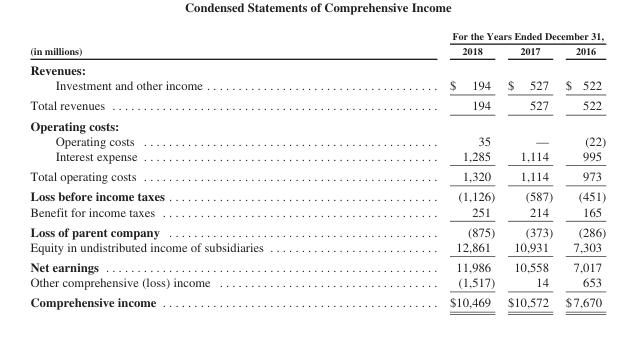table: (29, 29, 605, 309)
table column: (29, 29, 356, 309), (356, 29, 500, 309), (500, 29, 558, 309), (558, 29, 605, 309)
table column header: (29, 29, 605, 59)
table projected row header: (29, 59, 605, 77), (29, 115, 605, 132)
table row: (29, 95, 605, 115), (29, 165, 605, 185), (29, 59, 605, 77), (29, 77, 605, 95), (29, 185, 605, 203), (29, 203, 605, 221), (29, 238, 605, 256), (29, 256, 605, 274), (29, 291, 605, 309), (29, 42, 605, 59), (29, 115, 605, 132), (29, 148, 605, 165), (29, 221, 605, 238), (29, 274, 605, 291), (29, 132, 605, 148), (29, 29, 605, 42)
table spanning cell: (29, 29, 356, 59), (356, 29, 605, 42)
